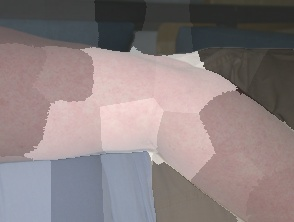SJS-TEN: (0, 16, 294, 222)
